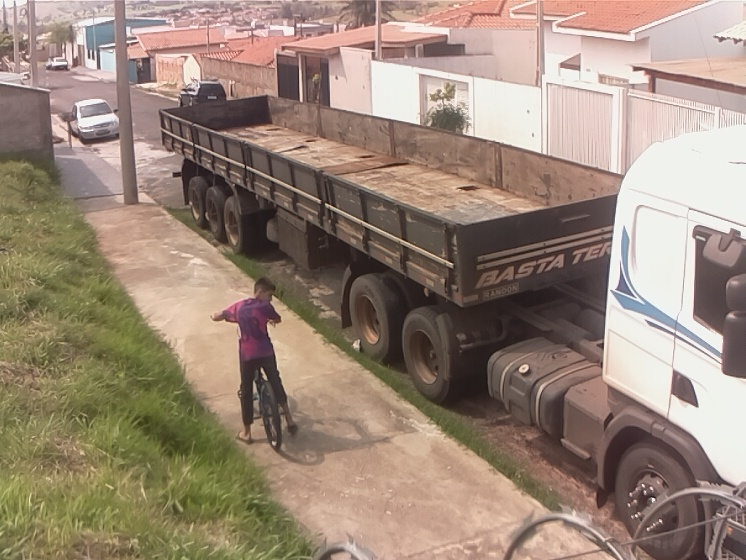person: (208, 277, 302, 451)
